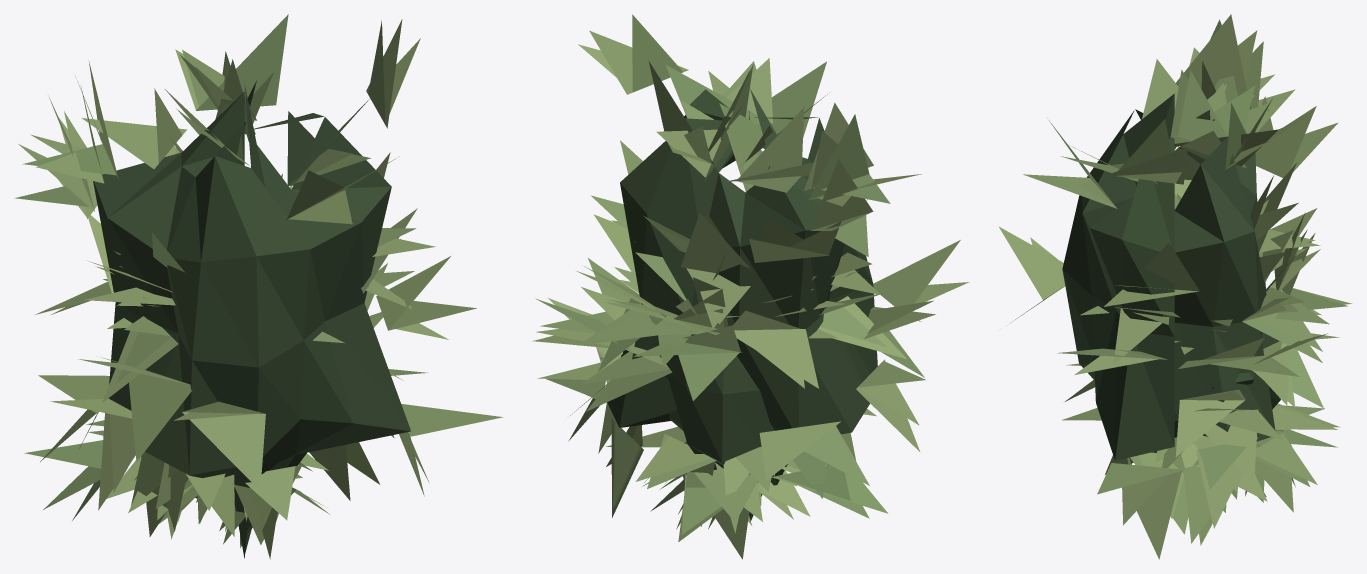
File: hieda_bush_b.glb
3 views of the same model, side by side, from view 1: azimuth 30°, elevation 25°; view 2: azimuth 150°, elevation 25°; view 3: azimuth 270°, elevation 25° (orthographic). The views are drawn at different scales.
Parts seen in each view (by area): view 1: hieda_bush_b; view 2: hieda_bush_b; view 3: hieda_bush_b.
Part boxes in pixels (left/top/right/bottom): hieda_bush_b: left=14, top=14, right=503, bottom=559; hieda_bush_b: left=532, top=14, right=969, bottom=559; hieda_bush_b: left=999, top=14, right=1352, bottom=559.
Size of the model in its own units: 3.43 by 4.07 by 2.91.
